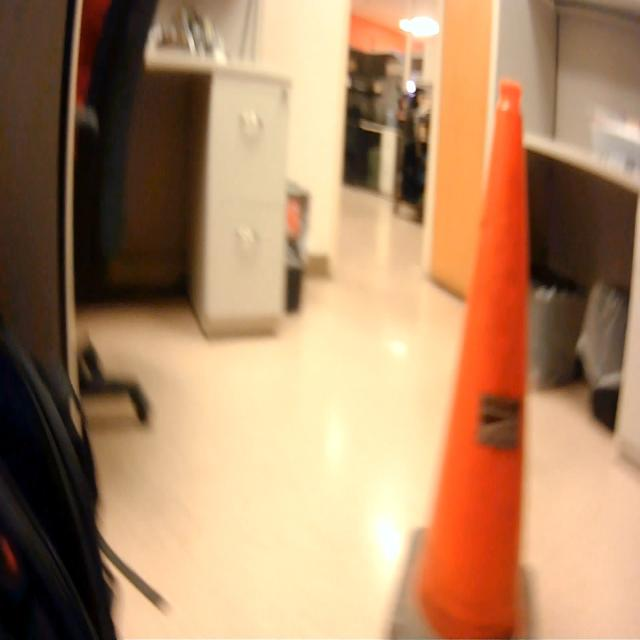traffic cone: (385, 71, 549, 640)
